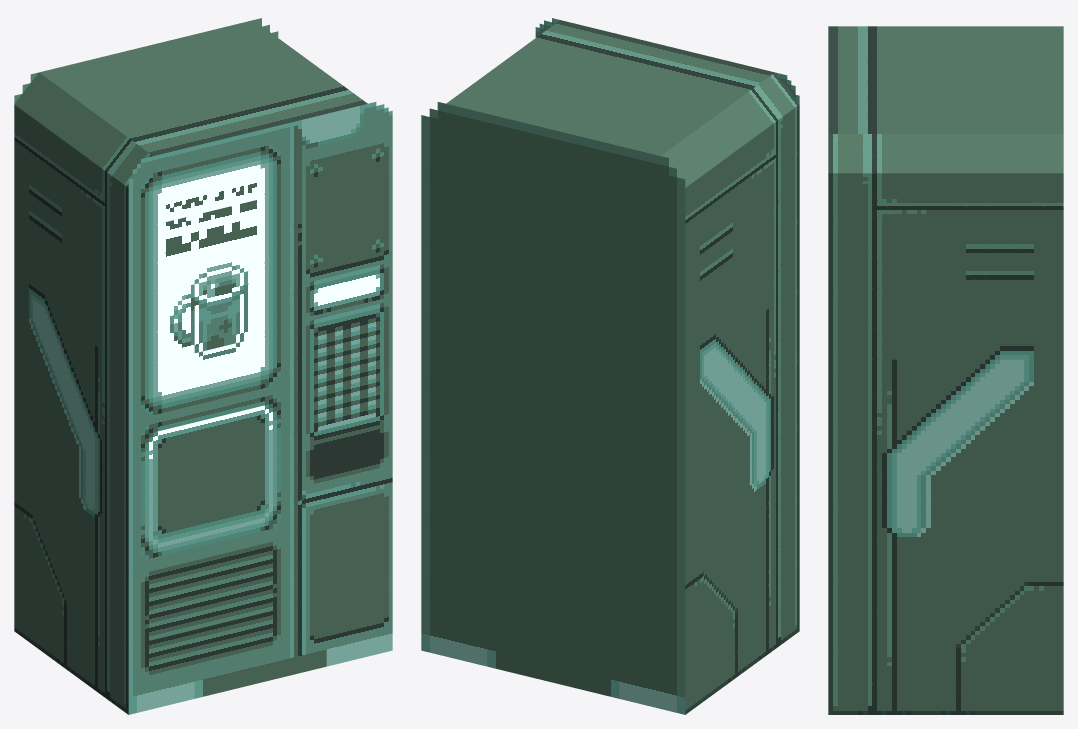
Rendered from drink_machine.gltf.
3 renders of one model, left to right at view 1: azimuth 30°, elevation 25°; view 2: azimuth 150°, elevation 25°; view 3: azimuth 270°, elevation 25°, orthographic. The views are drawn at different scales.
Parts seen in each view (by area): view 1: drink_machine; view 2: drink_machine; view 3: drink_machine.
Part boxes in pixels (box(x1,y1,x2,y2)): drink_machine: box(14, 18, 392, 714); drink_machine: box(421, 18, 799, 714); drink_machine: box(828, 26, 1063, 714).
Bounding box in the file's own units: 2 × 4 × 1.5.
1 material, 1 textured.
